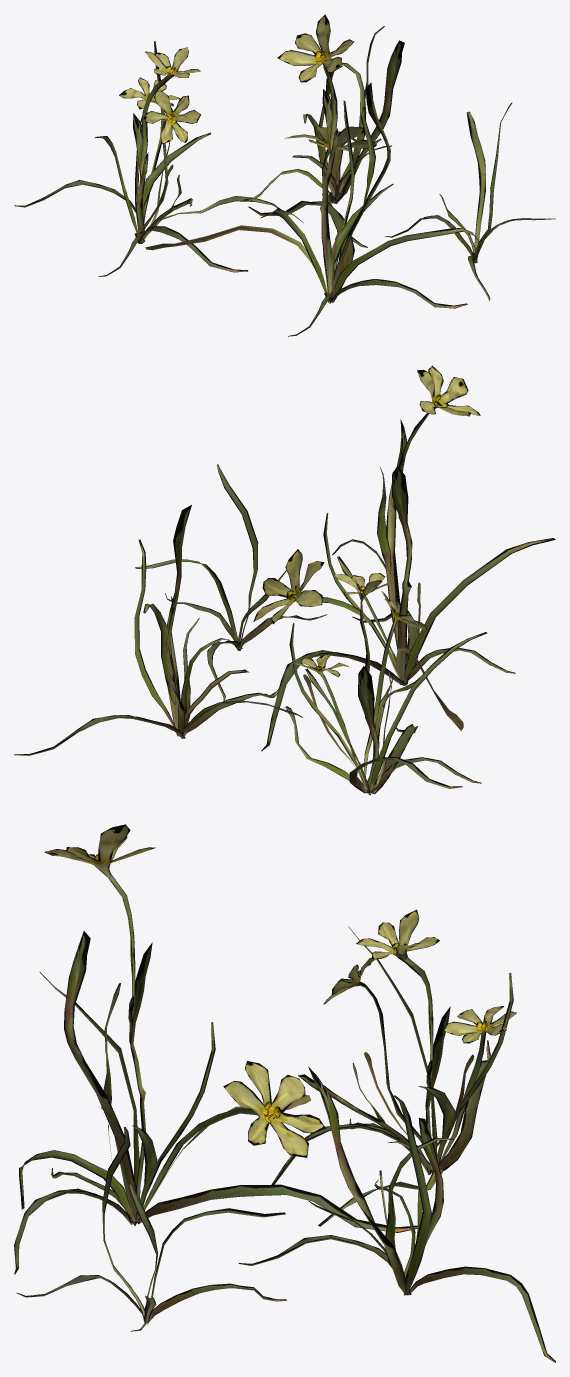
Rendered from empodium.glb.
3 views of the same model, one above another, from view 1: azimuth 30°, elevation 25°; view 2: azimuth 150°, elevation 25°; view 3: azimuth 270°, elevation 25° (orthographic). The views are drawn at different scales.
Visible parts, largest first — view 1: flower_empodium_a_LOD0, flower_empodium_c_LOD0, flower_empodium_d_LOD0, flower_empodium_e_LOD0; view 2: flower_empodium_a_LOD0, flower_empodium_c_LOD0, flower_empodium_d_LOD0, flower_empodium_e_LOD0; view 3: flower_empodium_a_LOD0, flower_empodium_c_LOD0, flower_empodium_d_LOD0, flower_empodium_e_LOD0.
Boxes of the visible parts, x1,y1,x2,y2 form: flower_empodium_a_LOD0: (145, 14, 479, 336); flower_empodium_c_LOD0: (14, 41, 303, 276); flower_empodium_d_LOD0: (243, 26, 404, 247); flower_empodium_e_LOD0: (385, 102, 555, 300); flower_empodium_a_LOD0: (253, 365, 555, 751); flower_empodium_c_LOD0: (284, 573, 487, 795); flower_empodium_d_LOD0: (14, 505, 302, 755); flower_empodium_e_LOD0: (135, 464, 326, 700); flower_empodium_a_LOD0: (14, 824, 417, 1274); flower_empodium_c_LOD0: (271, 909, 516, 1226); flower_empodium_d_LOD0: (238, 1066, 555, 1362); flower_empodium_e_LOD0: (16, 1127, 286, 1331).
Size of the model in its own units: 2.92 by 2.01 by 2.48.
1 material, 1 textured.
